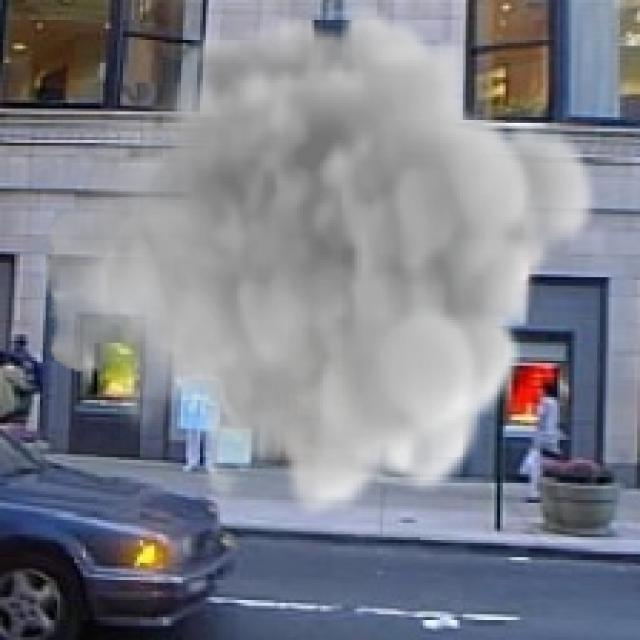Smoke: (40, 3, 603, 520)
